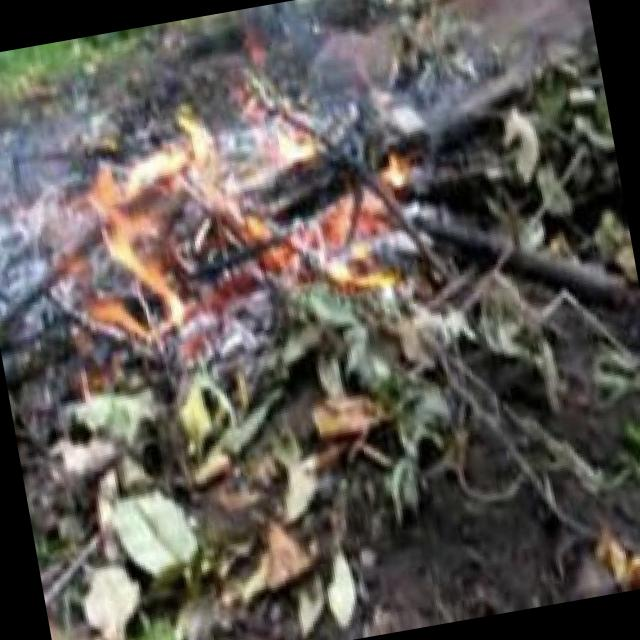Fire: (19, 67, 437, 359)
